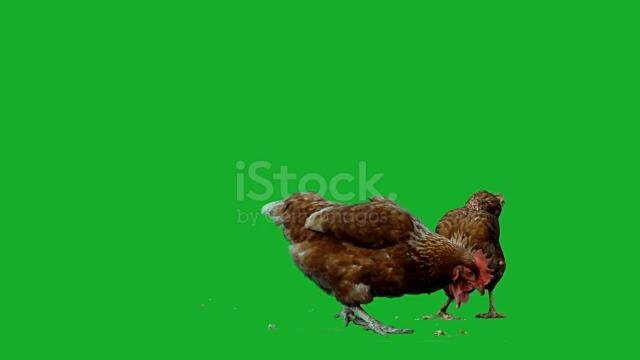Normal: (268, 187, 490, 335), (436, 176, 515, 317)
